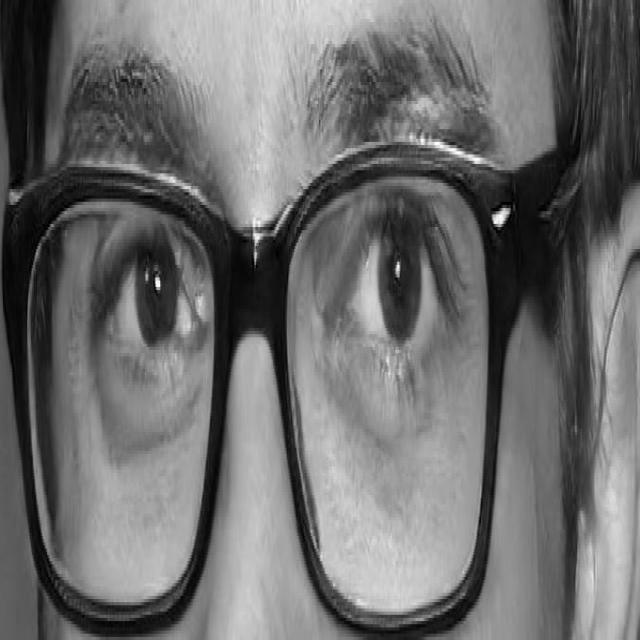real: (58, 46, 508, 510)
